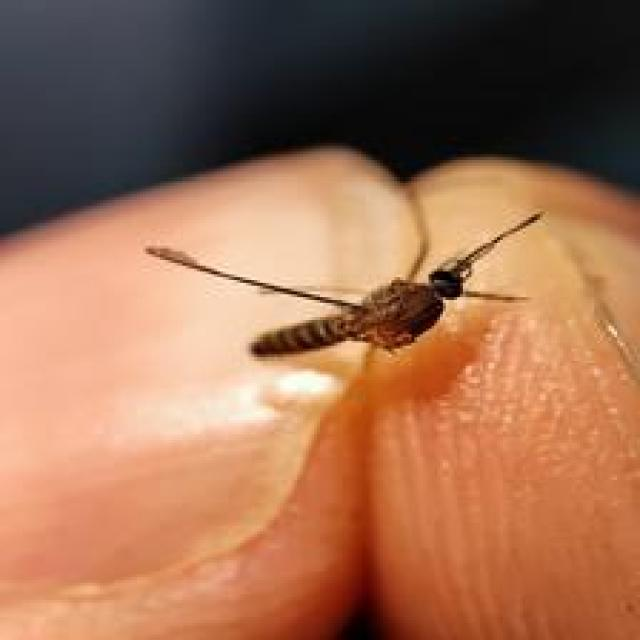Culex: (143, 180, 546, 363)
